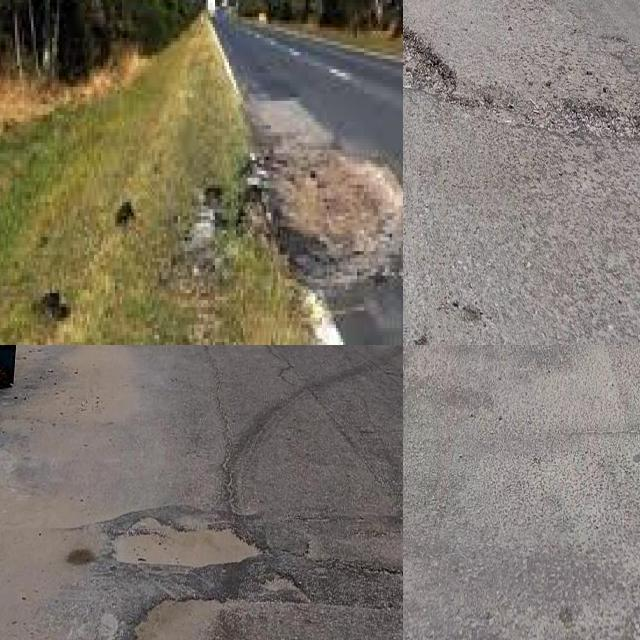Pothole: (245, 94, 403, 300), (113, 516, 255, 571), (403, 21, 467, 104), (134, 597, 241, 640), (260, 575, 304, 594)
